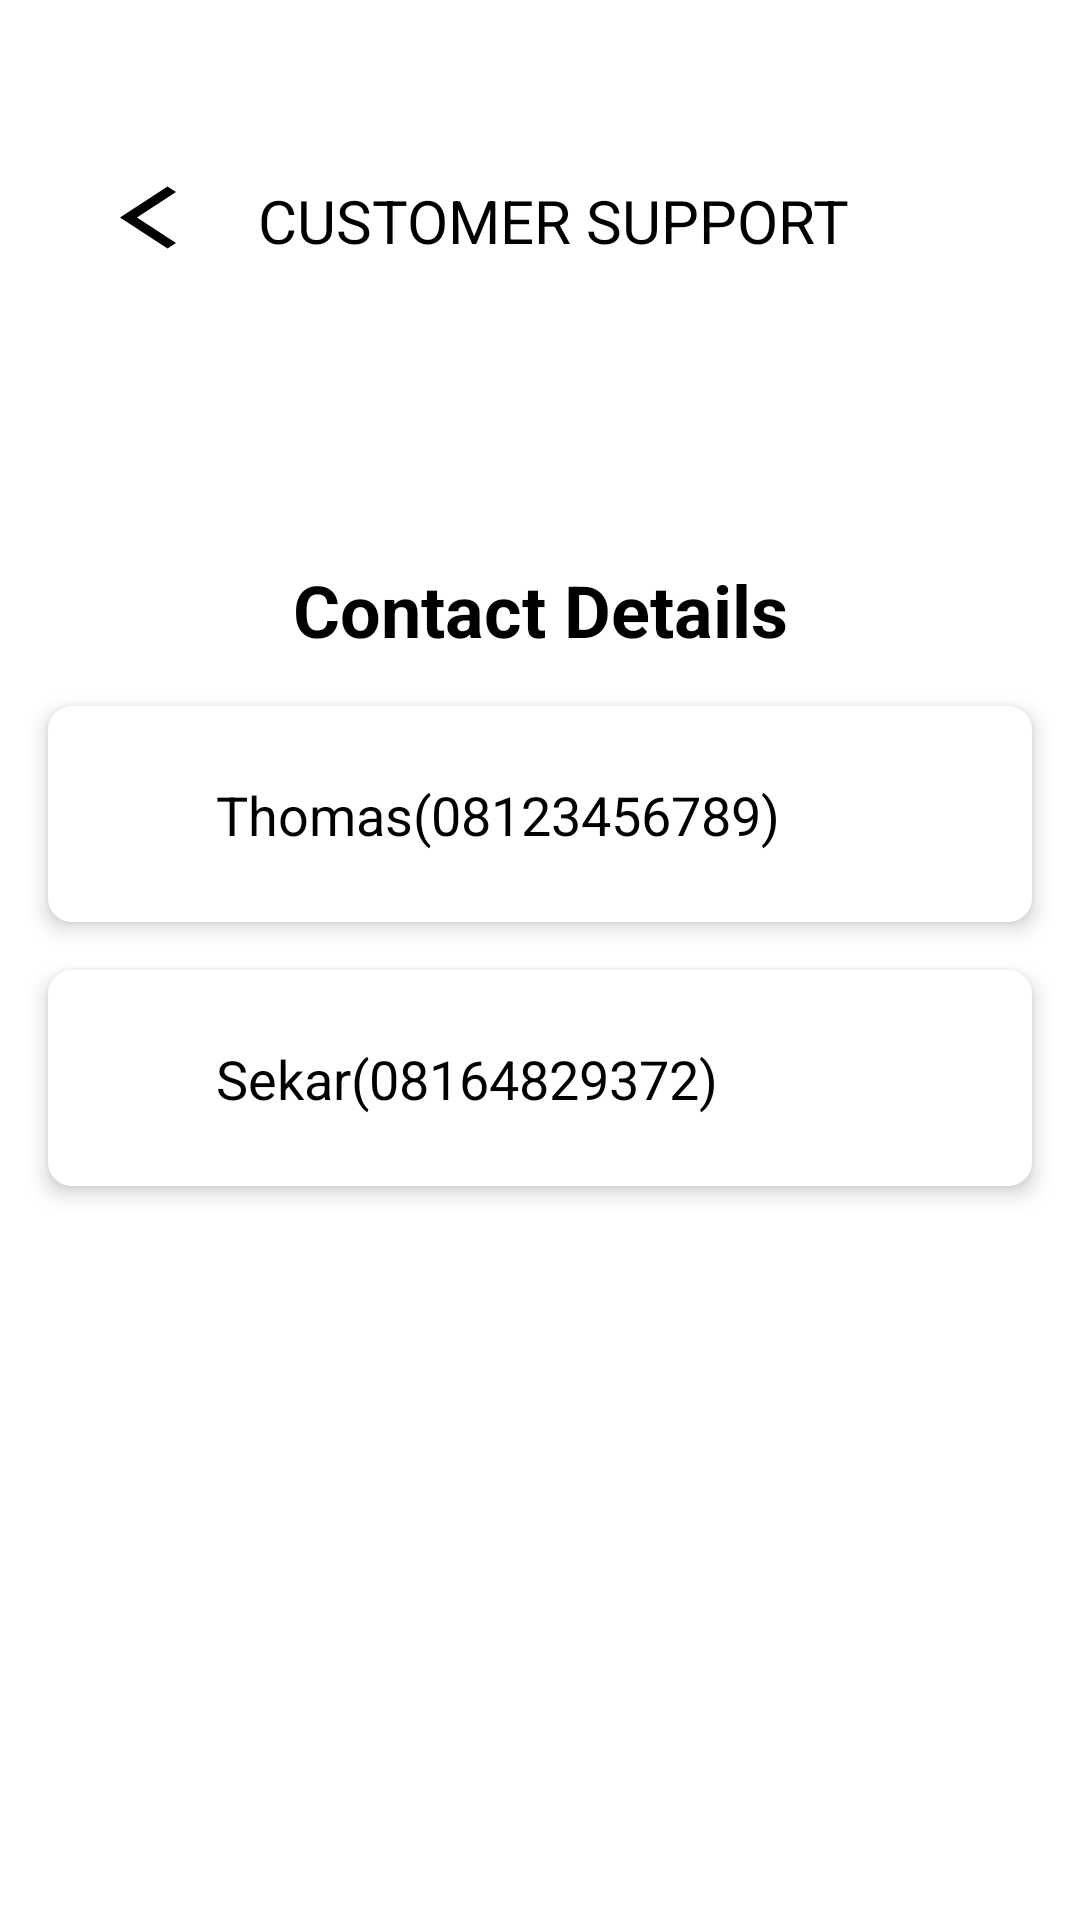

Named icons in this screenshot (1080x1920) and their bounding boxes, [x1,y1,x2,y2]:
back button: [120,186,176,249]
